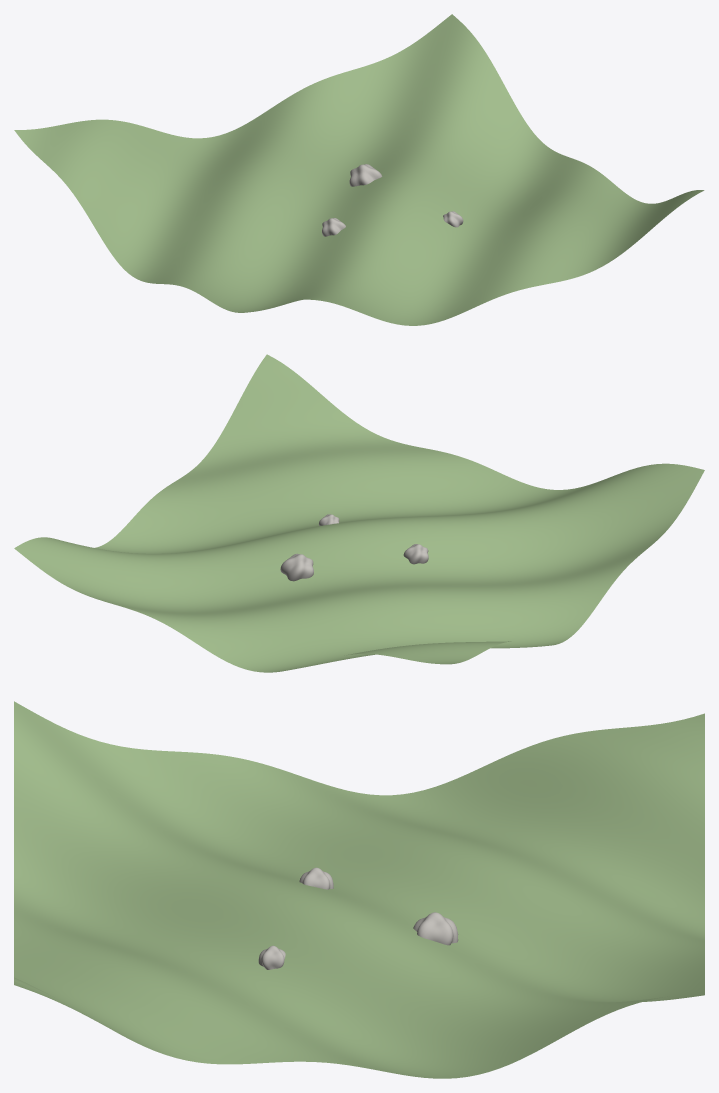
The model's file is source.gltf.
3 views of the same model, one above another, from view 1: azimuth 30°, elevation 25°; view 2: azimuth 150°, elevation 25°; view 3: azimuth 270°, elevation 25° (orthographic). The views are drawn at different scales.
Visible parts, largest first — view 1: valley, boulder; view 2: valley, boulder; view 3: valley, boulder.
Part boxes in pixels (x1,y1,x2,y2): valley: (14, 14, 704, 325); boulder: (349, 164, 382, 186); valley: (14, 354, 704, 672); boulder: (280, 553, 313, 581); valley: (14, 701, 704, 1078); boulder: (413, 912, 458, 945).
Size of the model in its own units: 128 by 22.31 by 128.
